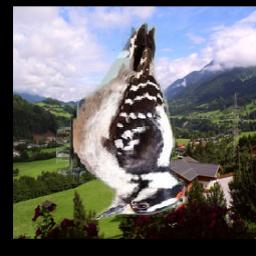Woodpecker: (56, 20, 189, 221)
